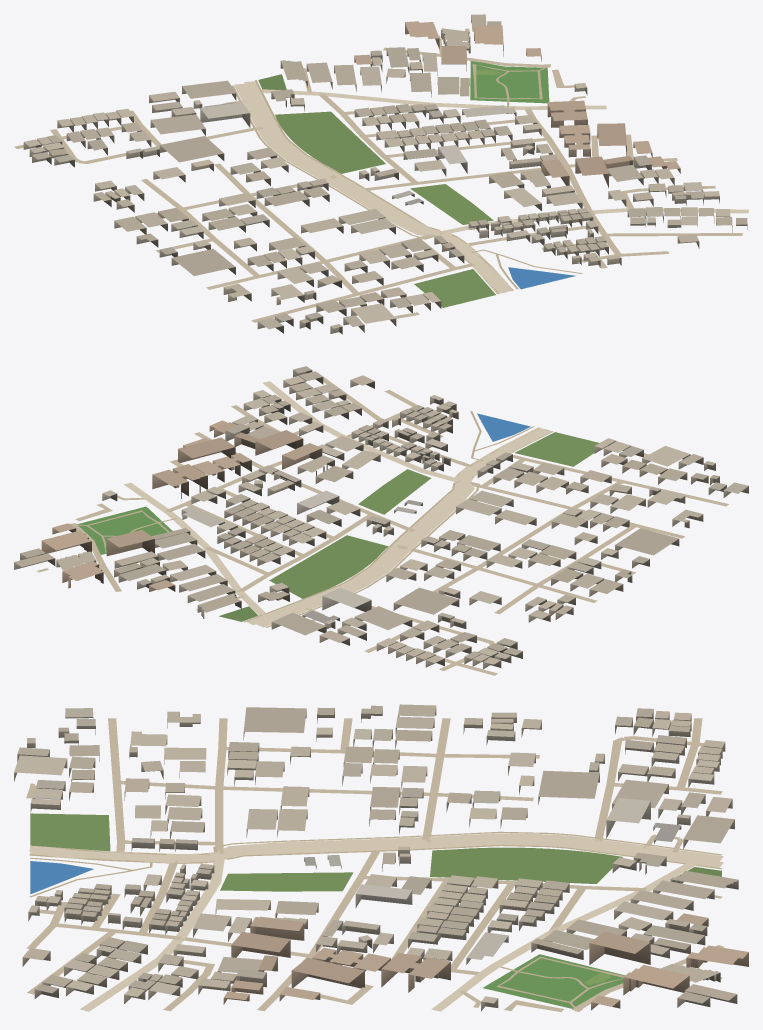
3 renders of one model, top to bottom at view 1: azimuth 30°, elevation 25°; view 2: azimuth 150°, elevation 25°; view 3: azimuth 270°, elevation 25°, orthographic. The views are drawn at different scales.
Visible parts, largest first — view 1: building, ground, water; view 2: building, ground, water; view 3: building, ground, water.
Boxes of the visible parts, left/top/right/bottom form: building: left=23, top=14, right=747, bottom=334; ground: left=14, top=28, right=748, bottom=322; water: left=508, top=267, right=575, bottom=289; building: left=14, top=366, right=748, bottom=669; ground: left=37, top=372, right=728, bottom=675; water: left=477, top=413, right=530, bottom=441; building: left=14, top=704, right=748, bottom=1011; ground: left=26, top=718, right=724, bottom=1012; water: left=30, top=861, right=93, bottom=894.
Size of the model in its own units: 515 by 18 by 531.
